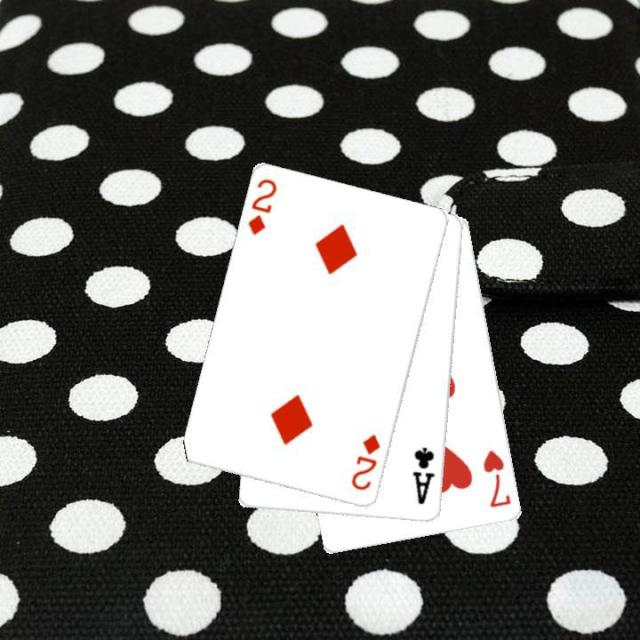2D: (348, 431, 382, 493), (245, 175, 279, 237)
7H: (479, 446, 513, 510)
AC: (409, 444, 437, 506)
